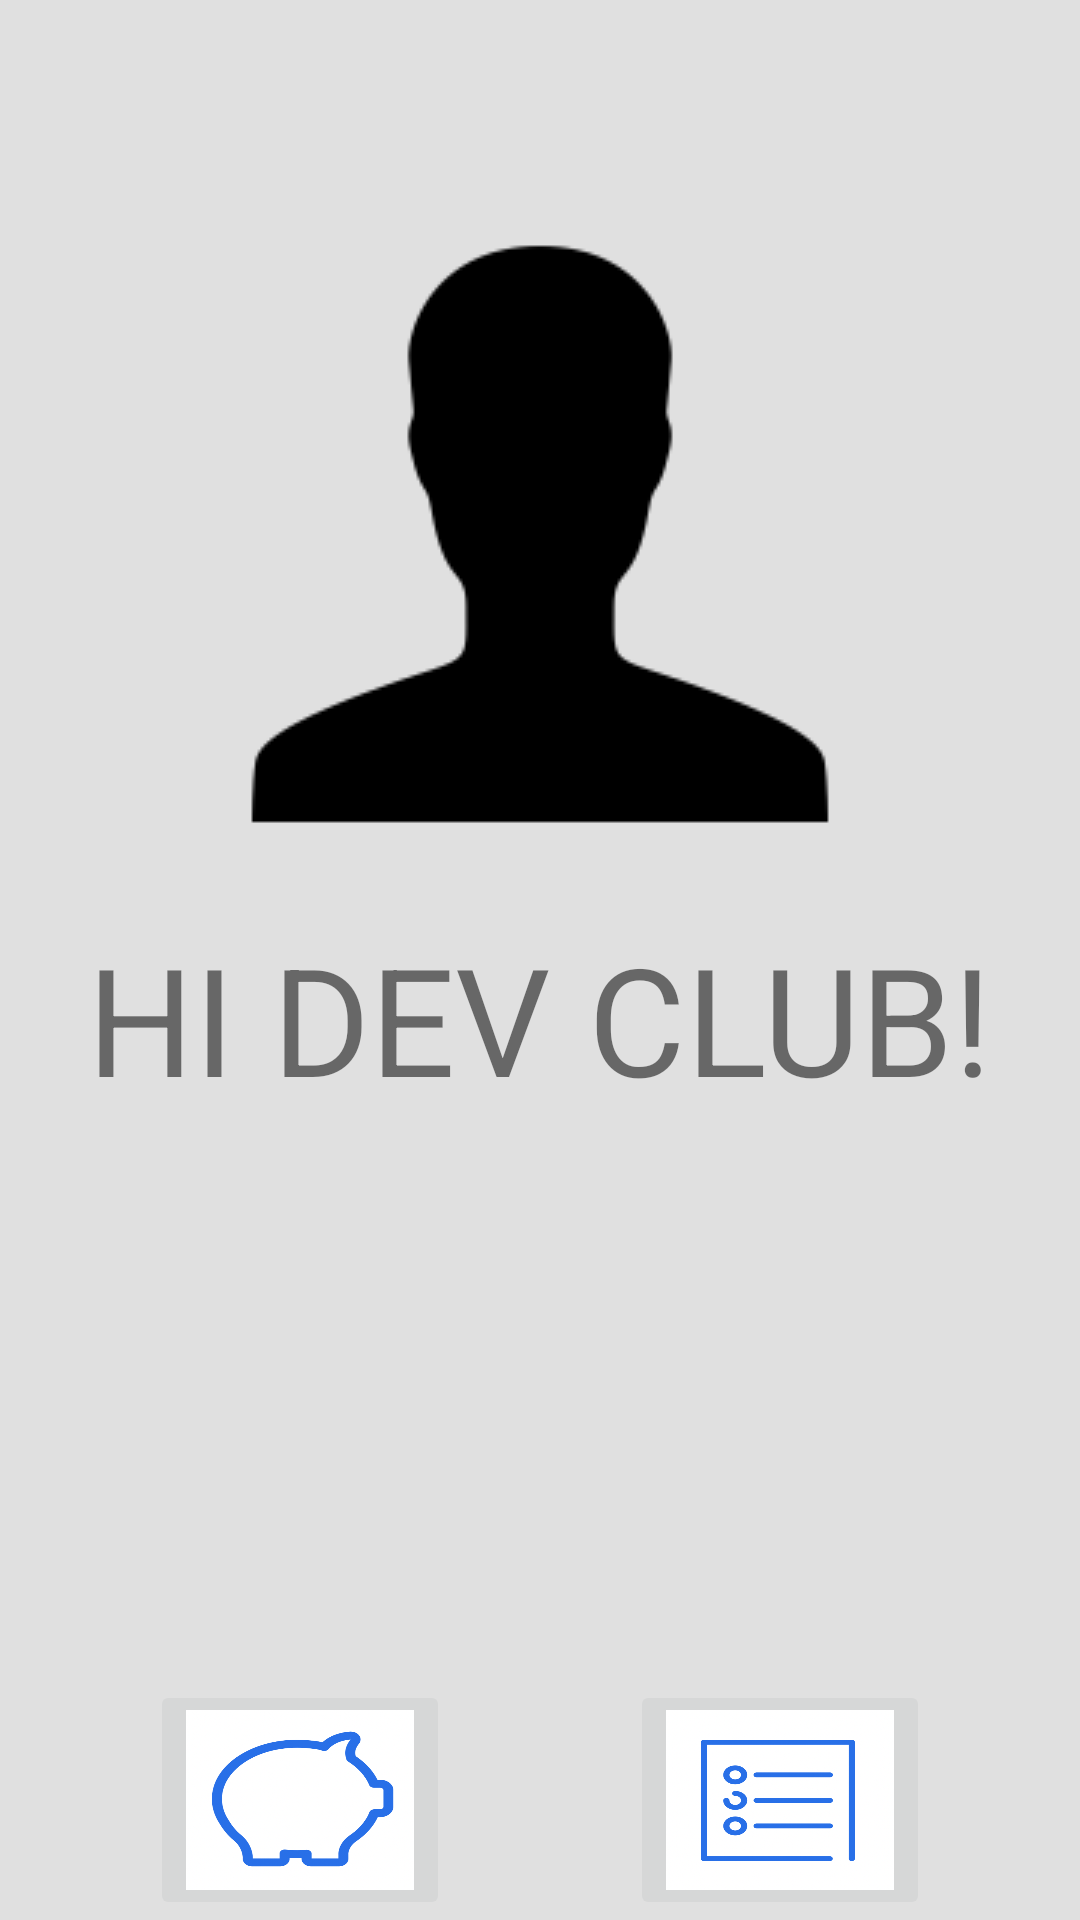

Where to tap for icons on this 1080*1920 app screen, as [x,y]:
note: [780,1800]
piggy: [300,1800]
